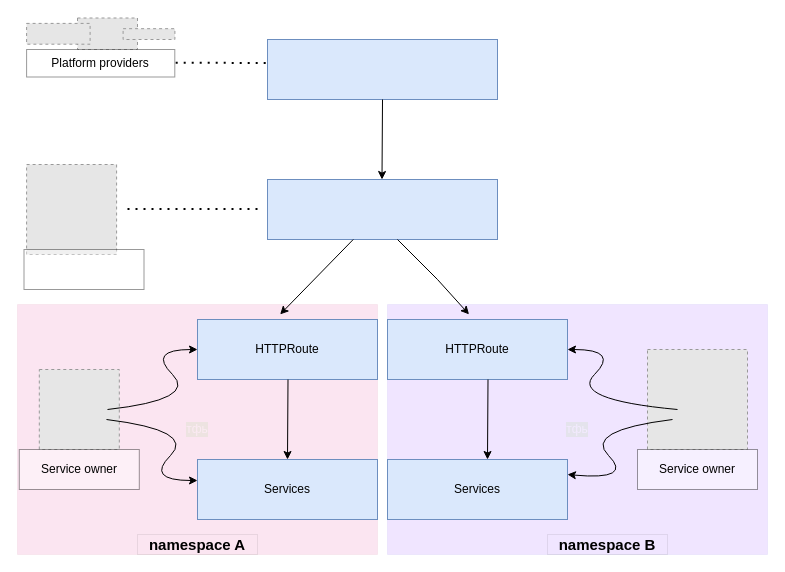
Image size: 785x572. Some labels were removed from this diagram. Grey dashed boxes stand in for pictures. Here are the shapes that lost their labels. From the top down, the box of each, then its label:
(266, 38, 498, 100): GatewayClass
(266, 178, 498, 240): Gateway
(23, 248, 144, 290): Platform admin
